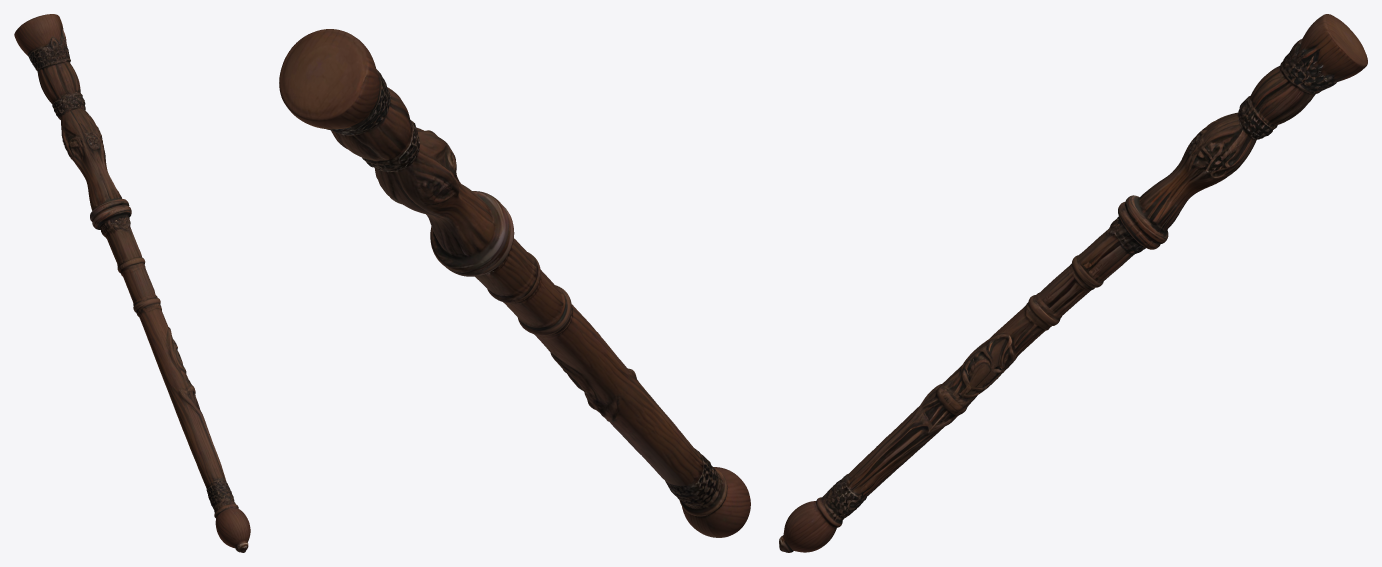
The model's file is detailed_realistic_model_dark_01.glb.
3 views of the same model, side by side, from view 1: azimuth 30°, elevation 25°; view 2: azimuth 150°, elevation 25°; view 3: azimuth 270°, elevation 25° (orthographic). The views are drawn at different scales.
Parts seen in each view (by area): view 1: tripo_node_84555416-370f-43a8-9d81-9d1477ffc4e9; view 2: tripo_node_84555416-370f-43a8-9d81-9d1477ffc4e9; view 3: tripo_node_84555416-370f-43a8-9d81-9d1477ffc4e9.
Part boxes in pixels (x1,y1,x2,y2): tripo_node_84555416-370f-43a8-9d81-9d1477ffc4e9: (14, 14, 250, 552); tripo_node_84555416-370f-43a8-9d81-9d1477ffc4e9: (279, 29, 750, 537); tripo_node_84555416-370f-43a8-9d81-9d1477ffc4e9: (779, 14, 1367, 552).
Bounding box in the file's own units: 0.1118 × 1 × 0.9994.
Materials: 1 (1 with a texture image).
